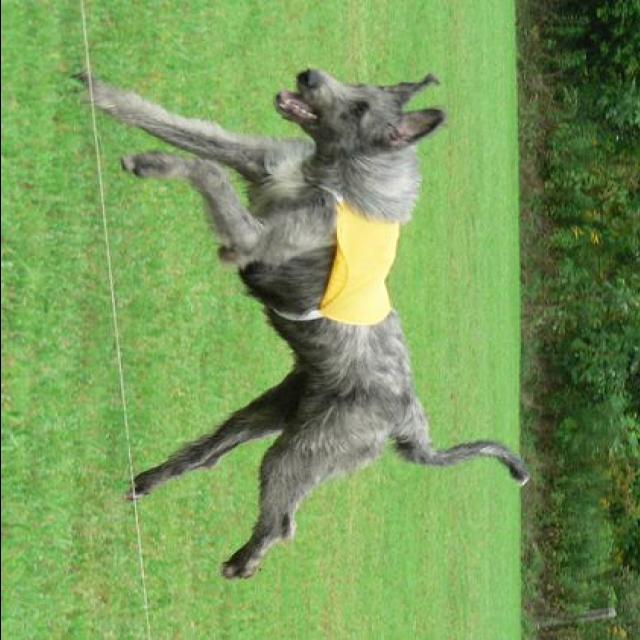irish_wolfhound: (75, 71, 532, 581)
